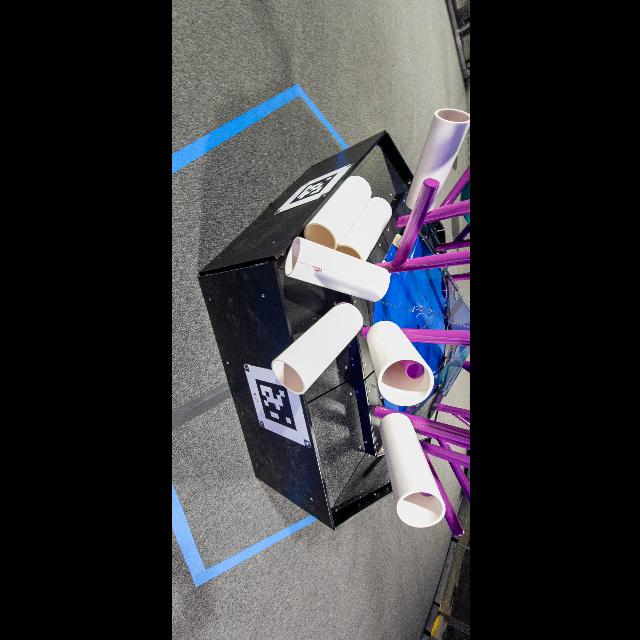CORAL: (268, 303, 362, 395), (378, 414, 444, 528), (284, 236, 388, 302), (405, 109, 469, 211), (365, 322, 433, 406), (304, 177, 371, 250), (336, 197, 390, 261)
